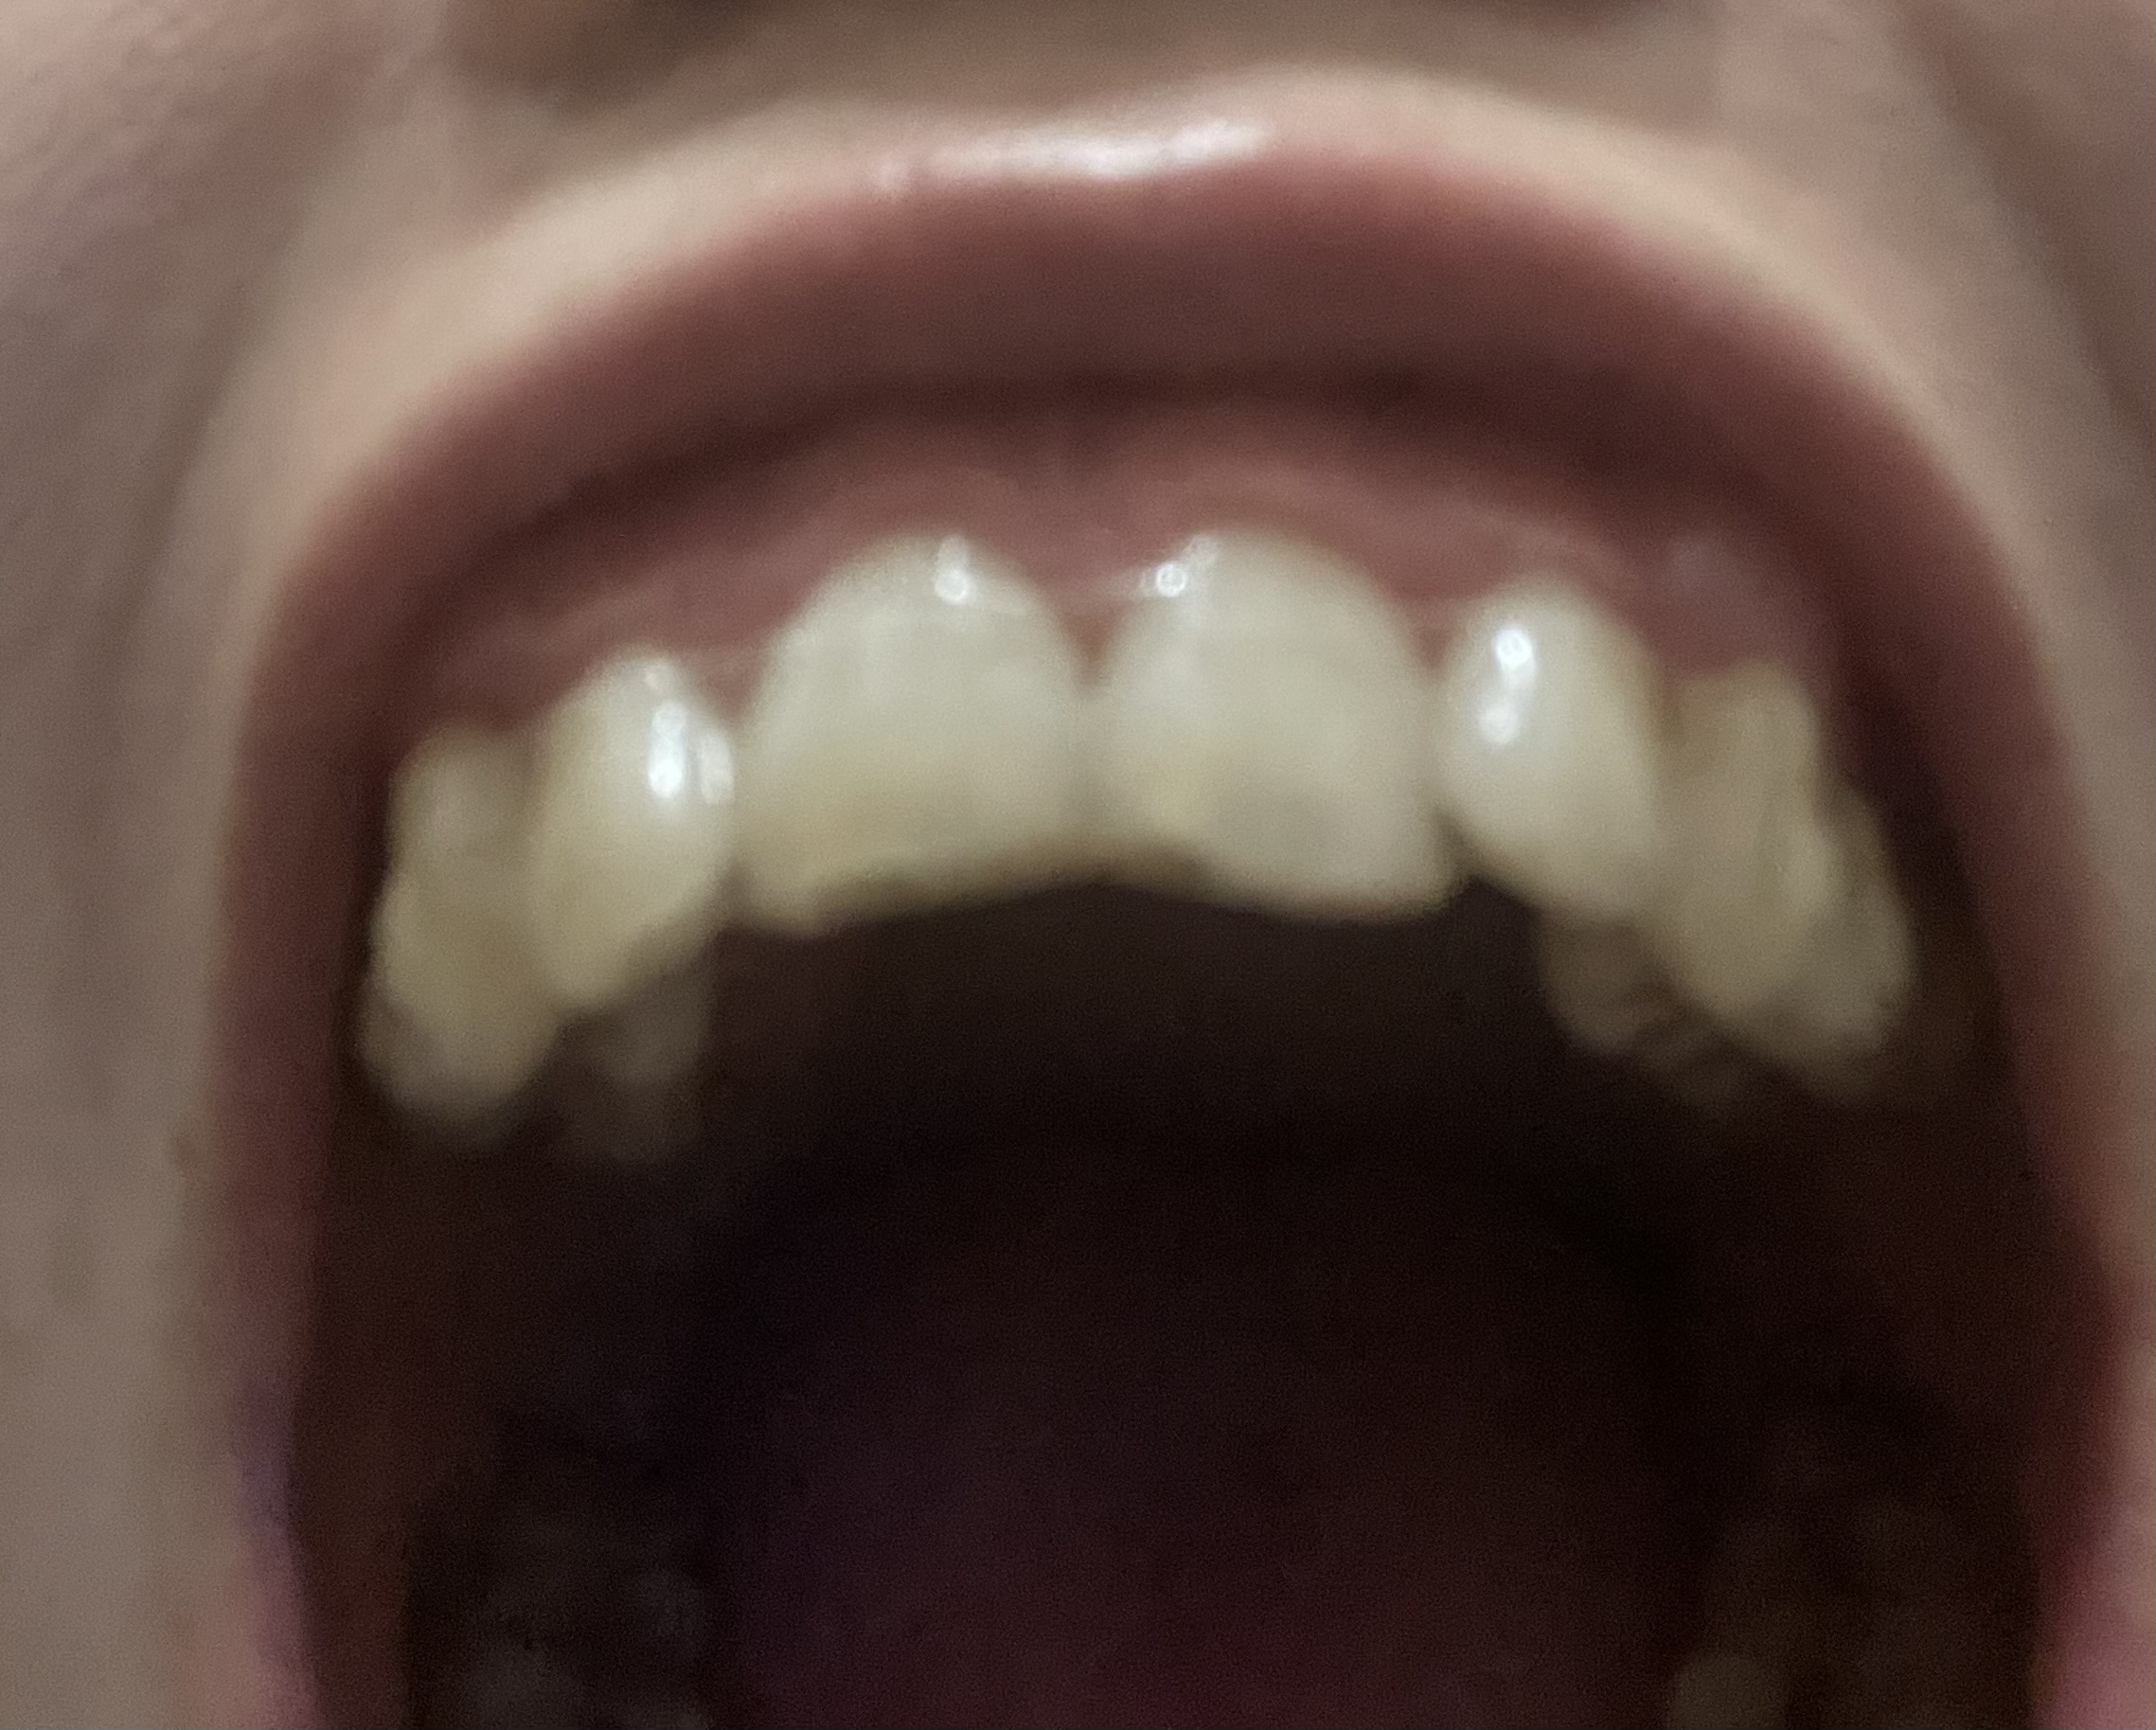teeth: (723, 542, 1073, 876), (1117, 553, 1445, 872), (1452, 581, 1683, 916), (538, 671, 725, 1003)
